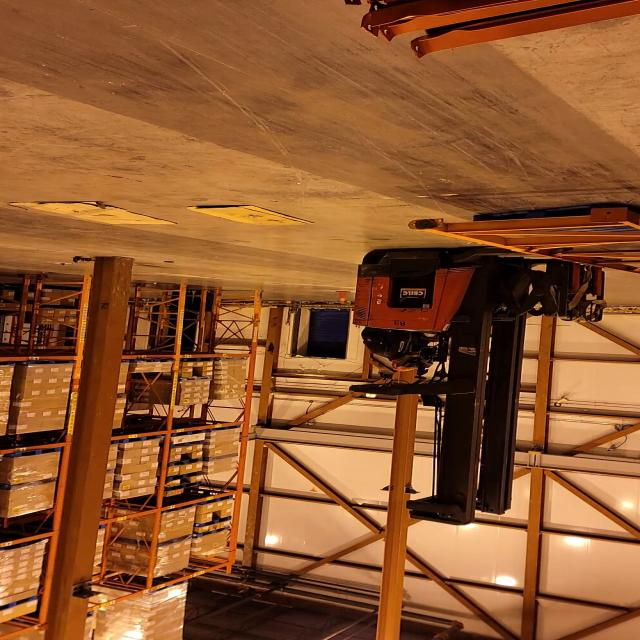forklift: (348, 245, 610, 517)
human: (347, 320, 444, 376)
objectofinterest: (406, 203, 640, 279), (4, 200, 181, 230), (189, 203, 316, 230)
